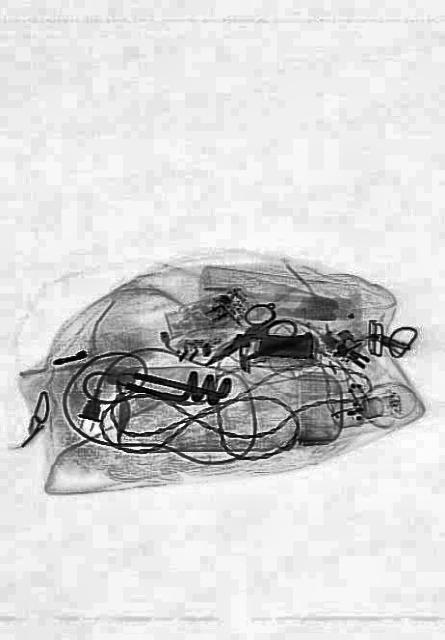Scissors: (196, 286, 298, 386)
